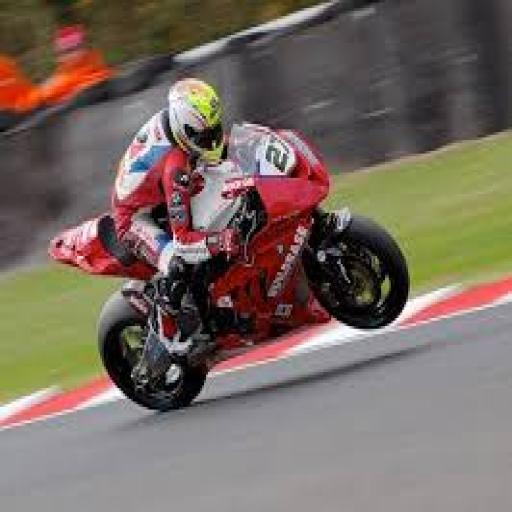helmet: (94, 119, 410, 412), (166, 76, 225, 164)
